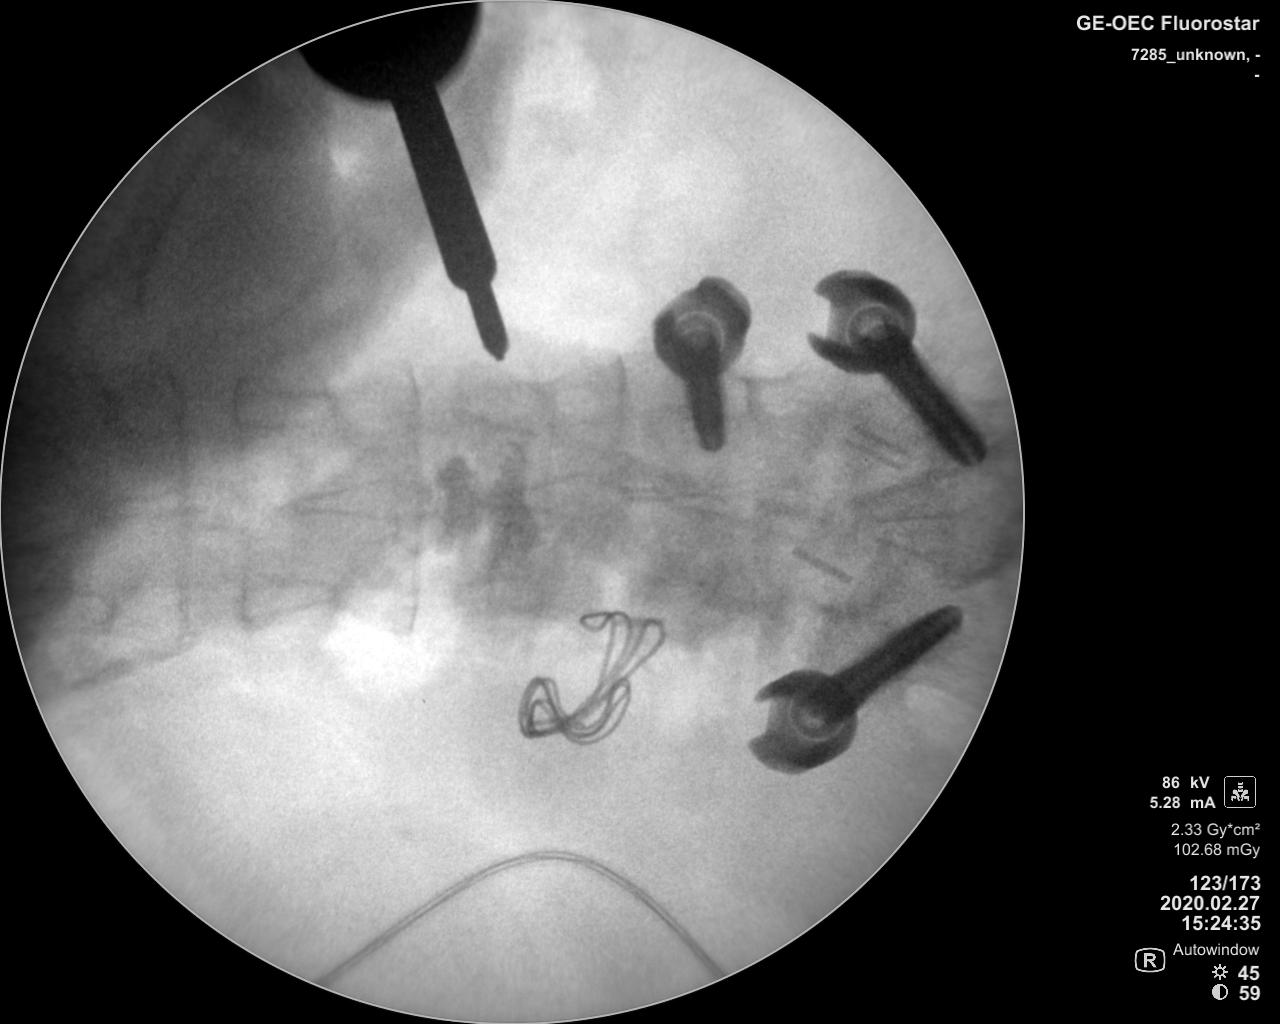eyes: (229, 382, 340, 433), (452, 370, 543, 426), (238, 572, 335, 616)
line: (162, 373, 197, 649), (392, 360, 423, 639), (225, 376, 254, 635)
nose: (863, 501, 1010, 579), (284, 473, 445, 527), (479, 472, 633, 517), (667, 478, 770, 523)
